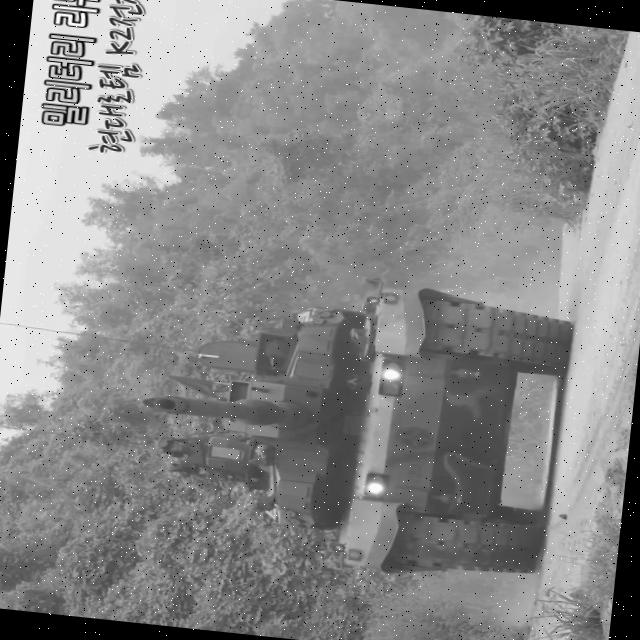korea tank: (124, 258, 574, 590)
